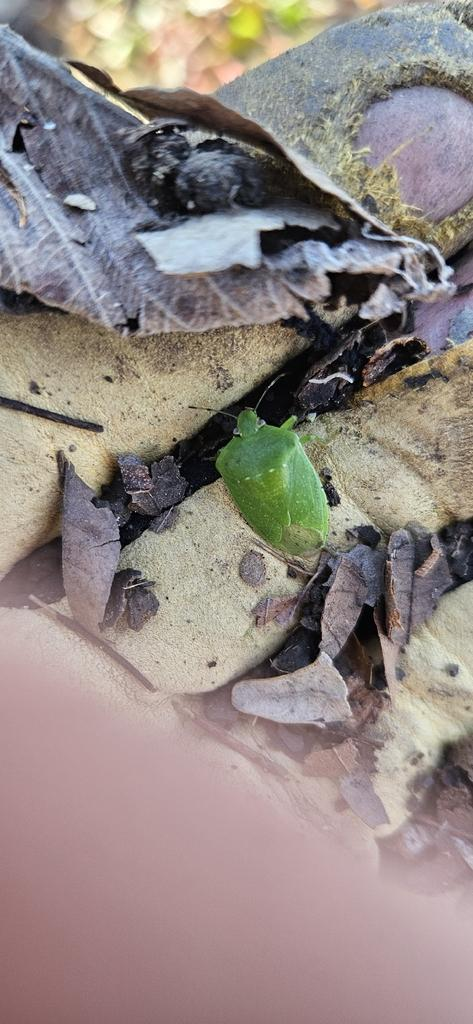stink_bugs: (150, 339, 358, 598)
